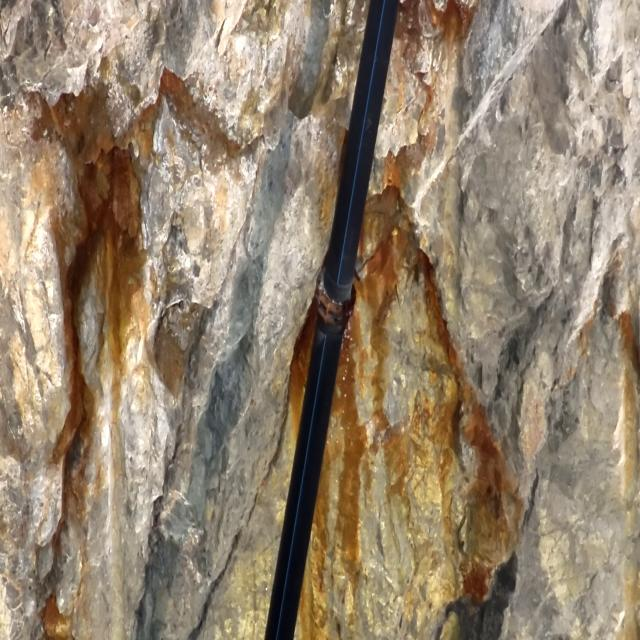leak: (336, 312, 356, 428)
